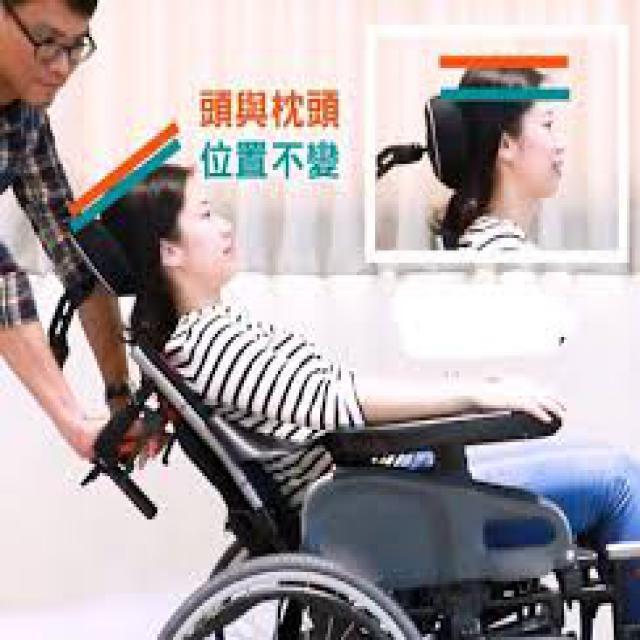wheelchairs: (50, 253, 638, 637)
